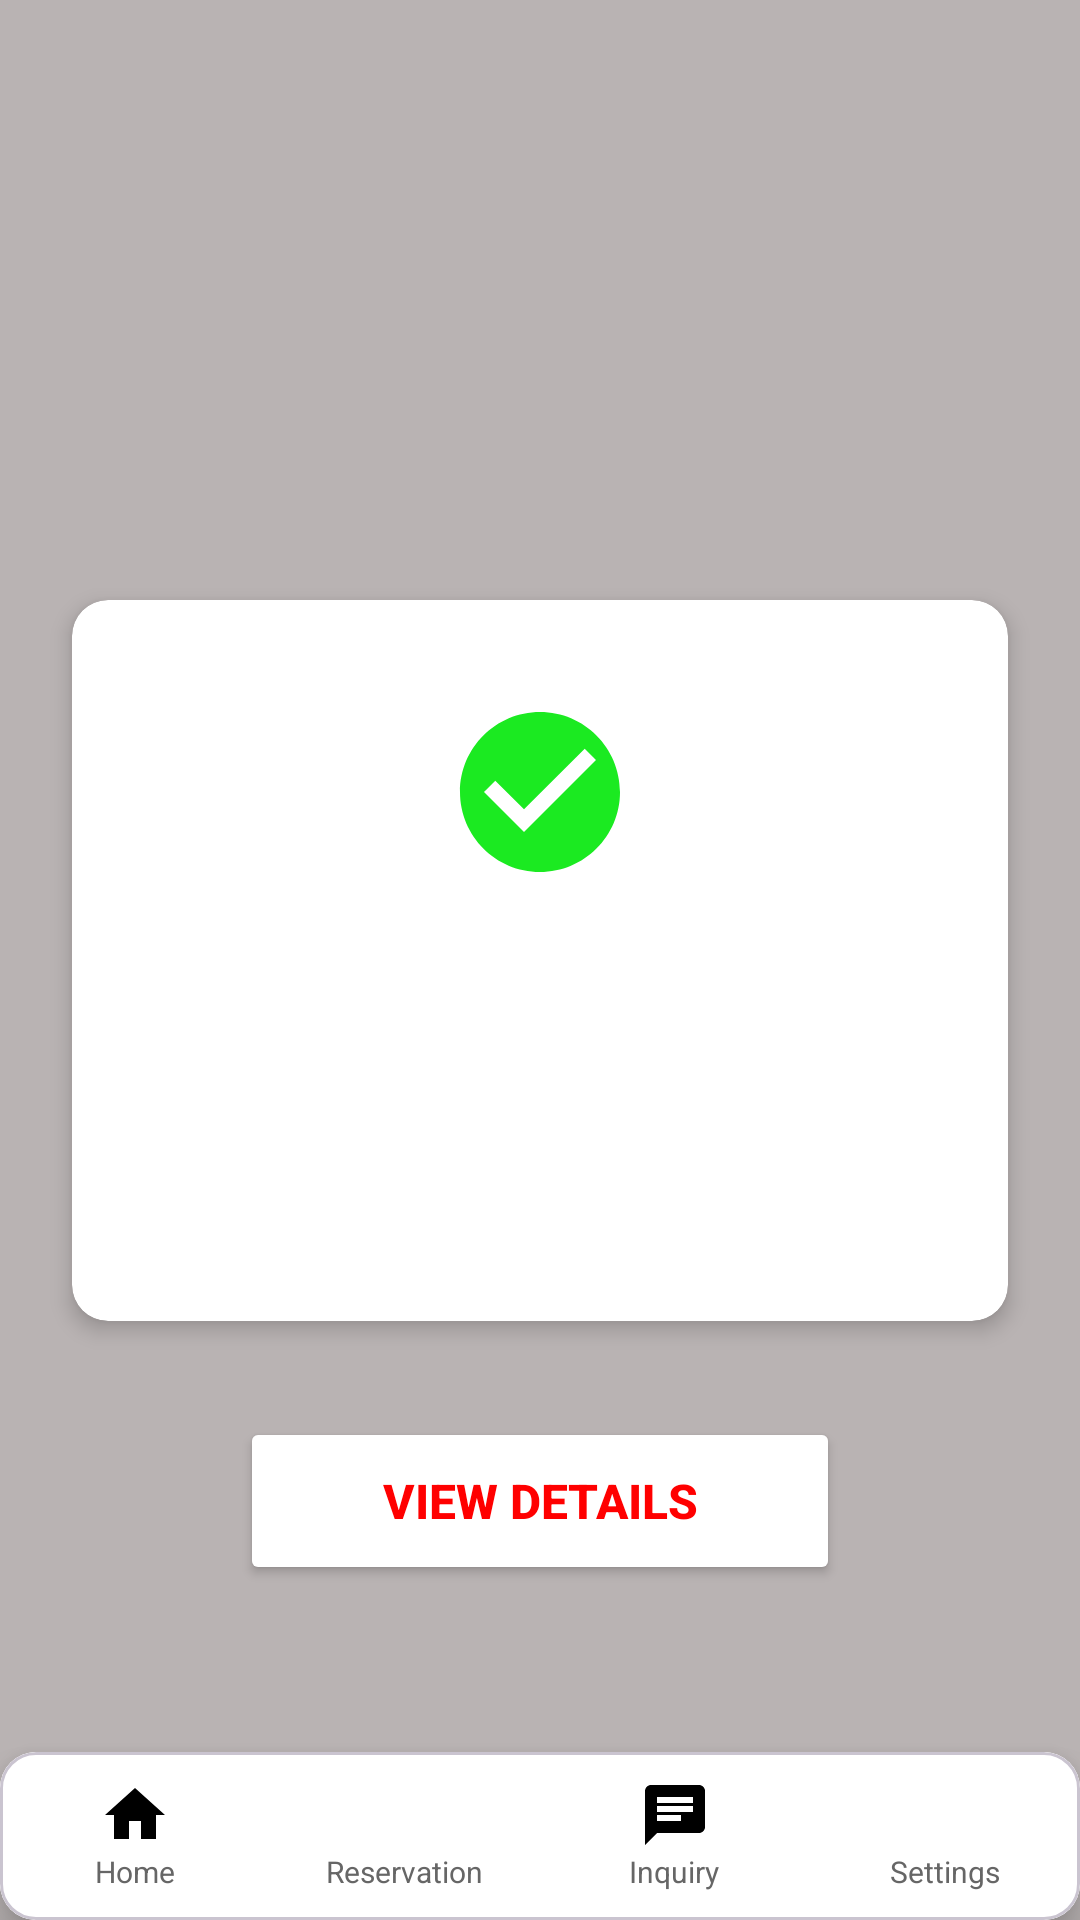

Locate icon controls on the screen. Image size 1080 x 1920, boxes as (x1, y1, x2, y2).
chat: (645, 1785, 705, 1845)
check circle: (460, 712, 620, 872)
